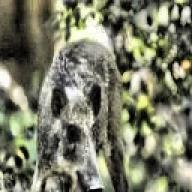boar: (24, 36, 130, 192)
